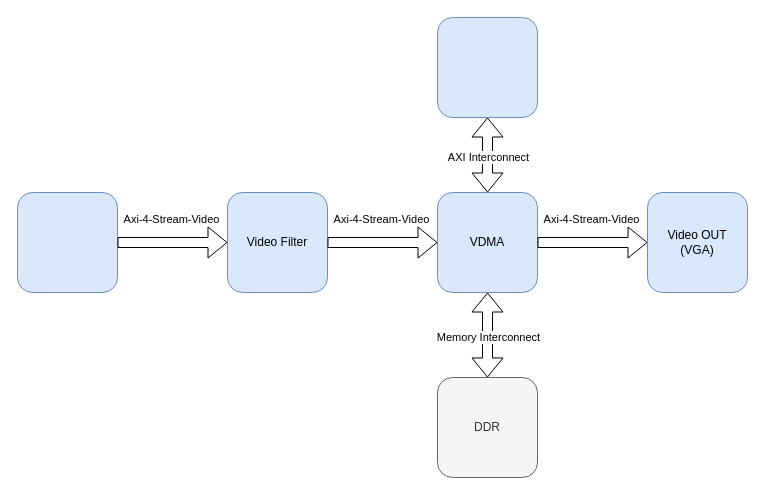
Image size: 765x495. Some labels were removed from this diagram. Each missing label, with the centre of its shape:
Video IN (from OV7670): the point at 67,242
Zynq: the point at 487,67
